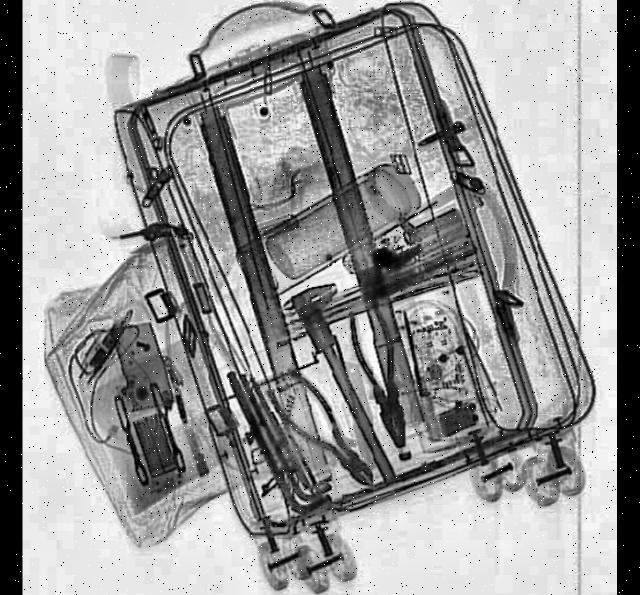Pliers: (264, 357, 390, 500), (344, 294, 422, 450)
